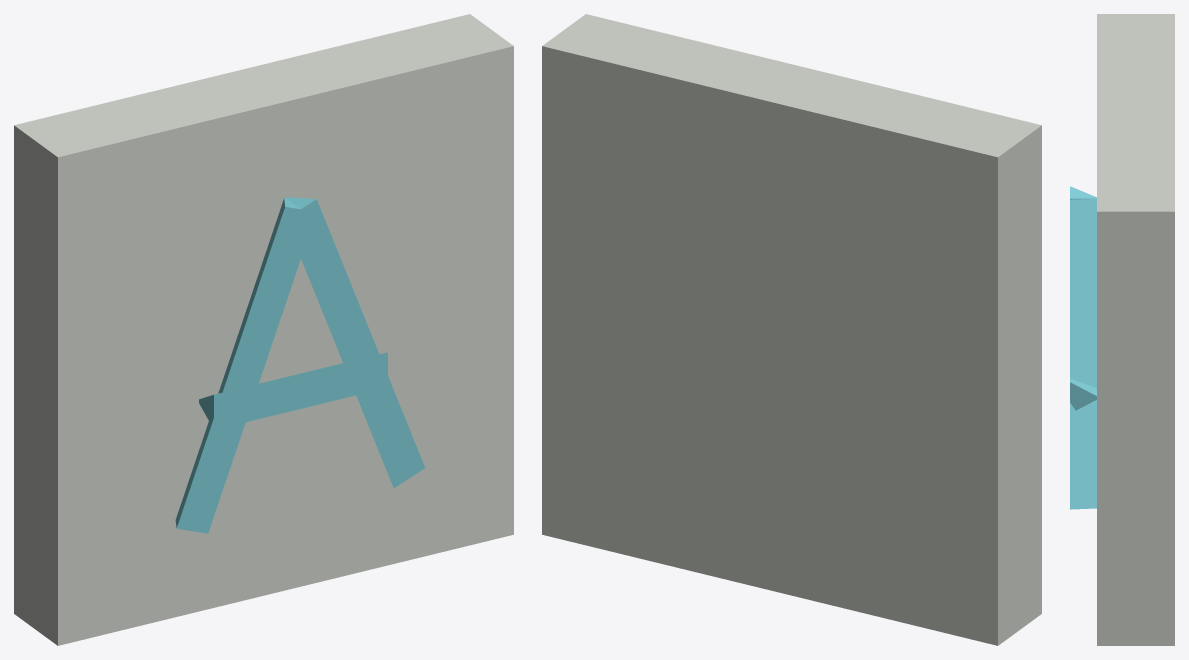
The model's file is Mountain_Ornament.fbx.
3 views of the same model, side by side, from view 1: azimuth 30°, elevation 25°; view 2: azimuth 150°, elevation 25°; view 3: azimuth 270°, elevation 25° (orthographic). The views are drawn at different scales.
Visible parts, largest first — view 1: Mountain_Ornament; view 2: Mountain_Ornament; view 3: Mountain_Ornament.
Part boxes in pixels (x1=…): Mountain_Ornament: x1=14, y1=14, x2=513, y2=645; Mountain_Ornament: x1=542, y1=14, x2=1041, y2=645; Mountain_Ornament: x1=1070, y1=14, x2=1174, y2=645.
Size of the model in its own units: 42 by 43 by 9.4.
